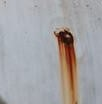Corrosion: (53, 28, 79, 104)
